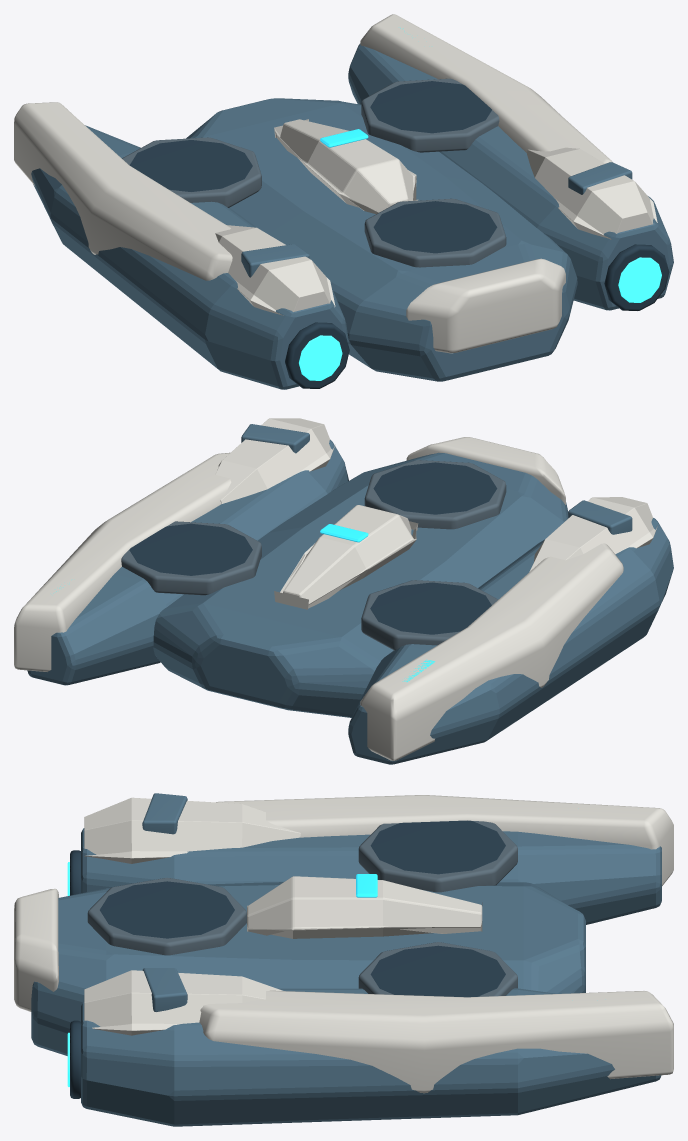
File: destroyer.glb
The picture shows the model from 3 angles, top to bottom: view 1: azimuth 30°, elevation 25°; view 2: azimuth 150°, elevation 25°; view 3: azimuth 270°, elevation 25°; orthographic projection. The views are drawn at different scales.
Parts seen in each view (by area): view 1: HullArmor, Engine02Mesh, Engine01Mesh; view 2: HullArmor; view 3: HullArmor, Engine02Mesh, Engine01Mesh.
Part boxes in pixels (x1,y1,x2,y2): HullArmor: (14,14,673,389); Engine02Mesh: (604,244,669,310); Engine01Mesh: (285,322,349,388); HullArmor: (14,418,673,764); HullArmor: (14,793,673,1126); Engine02Mesh: (67,1020,80,1098); Engine01Mesh: (67,850,80,895).
Size of the model in its own units: 4.98 by 1.34 by 5.72.
